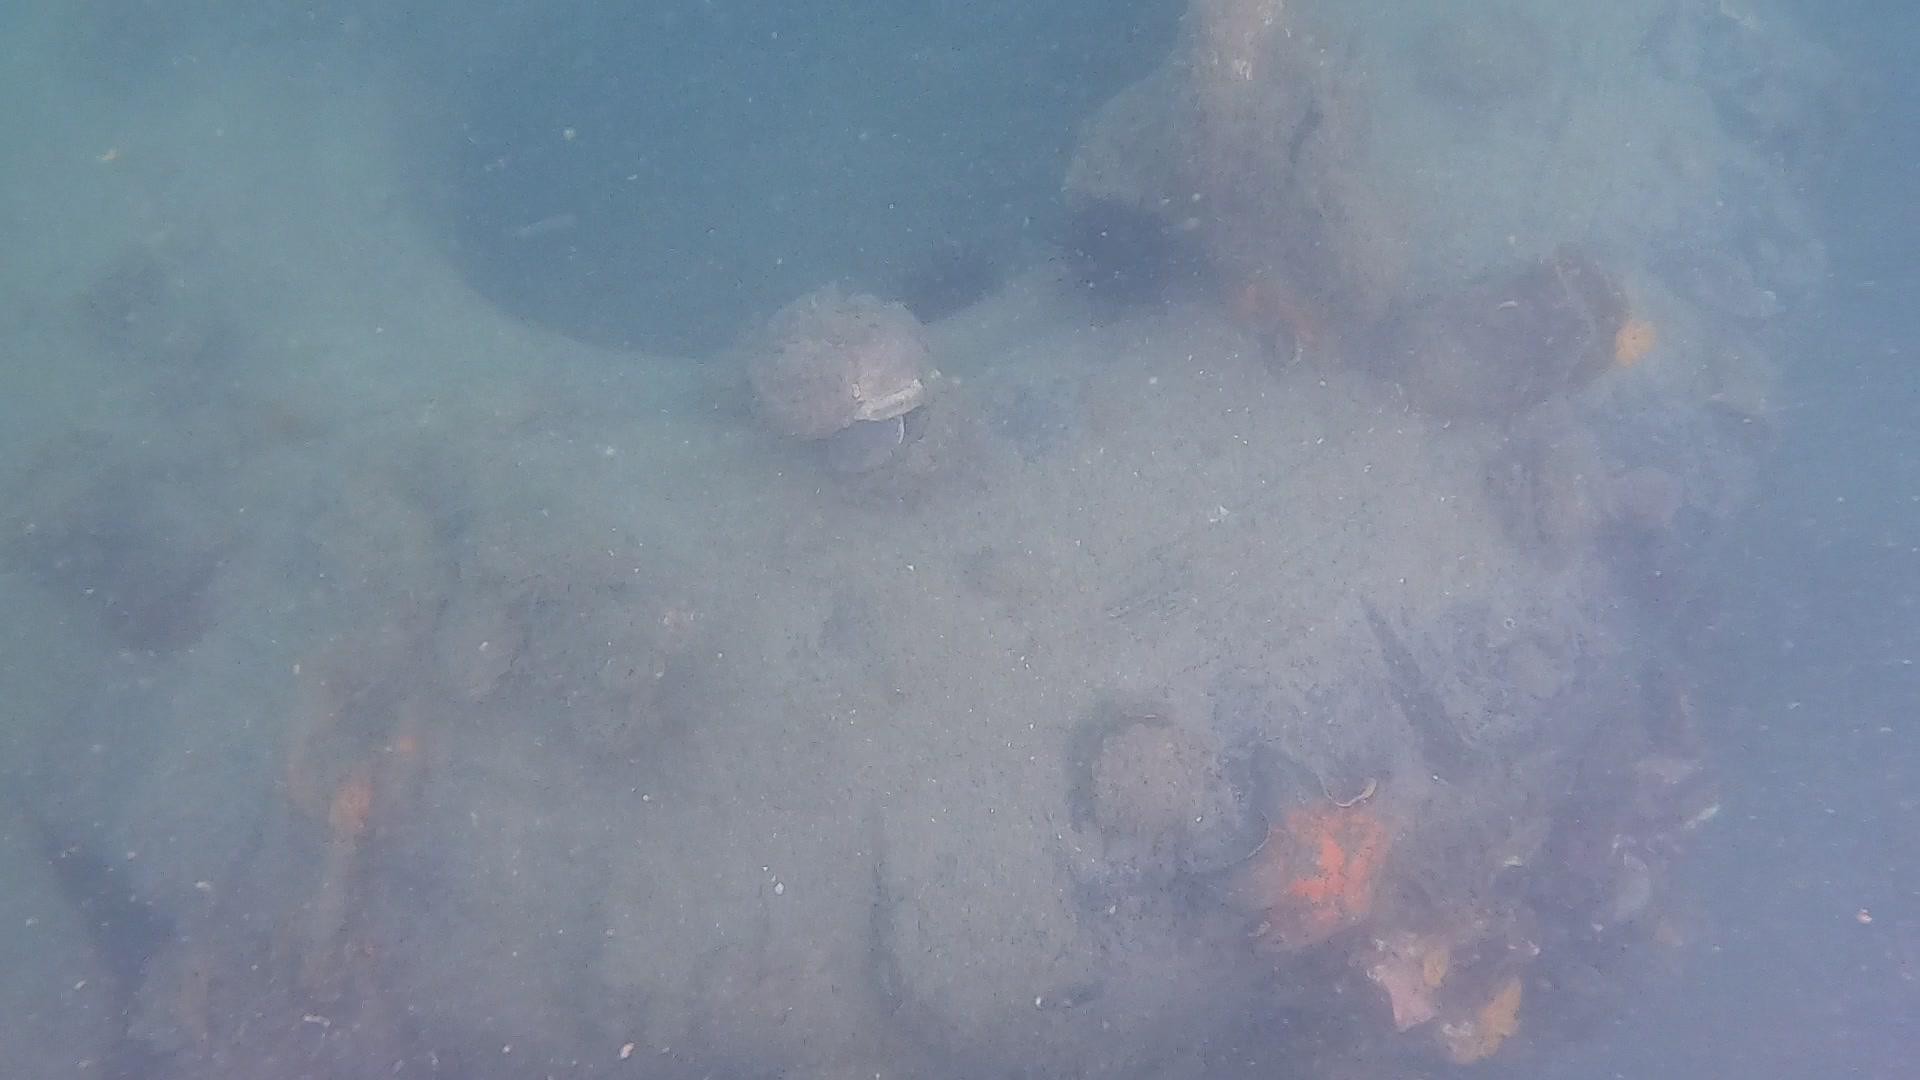tire: (0, 0, 1837, 1080)
